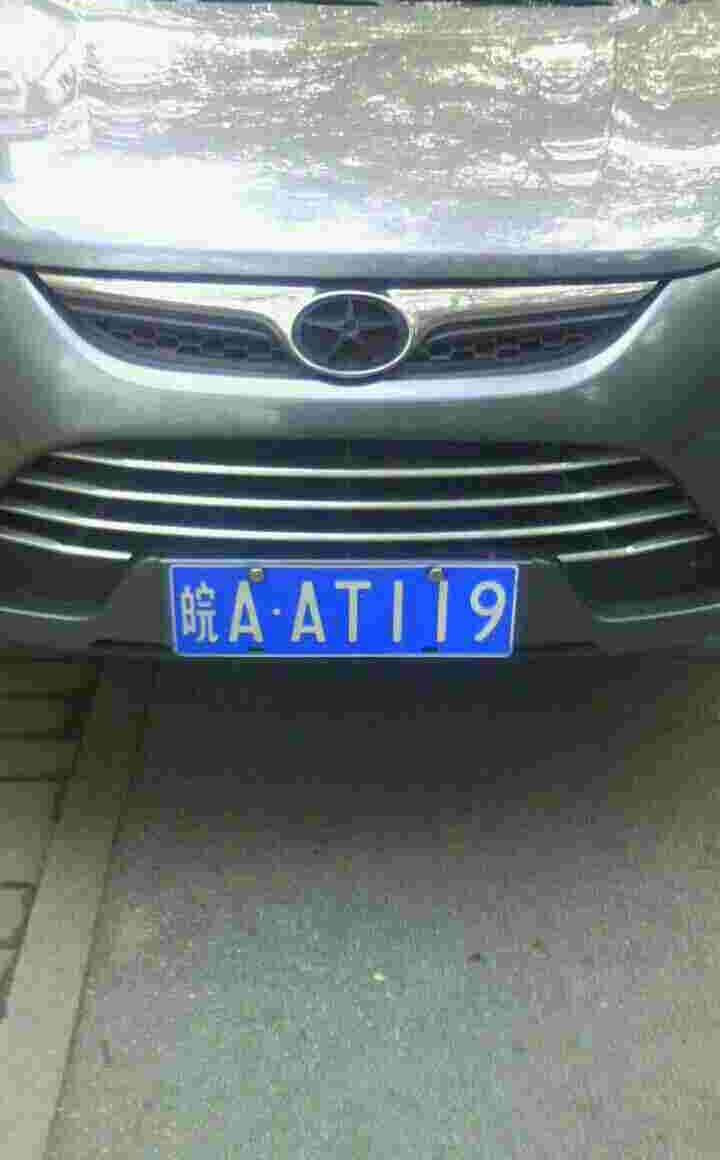license_plate: (164, 566, 513, 666)
